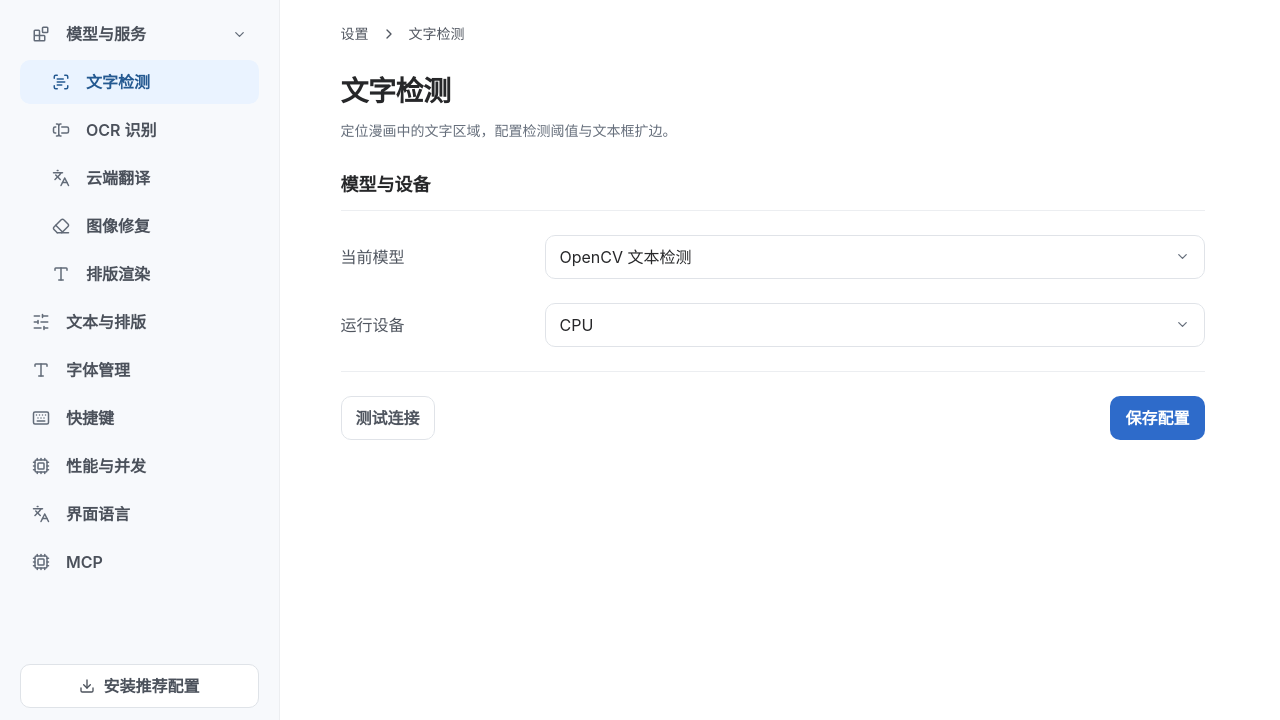
Scenario: service connection tests › tests inpainting using current settings without saving
This screenshot has width=1280, height=720.
Click the button with aria-label "编辑图像修复配置" at [140, 226], box [20,204,259,248]
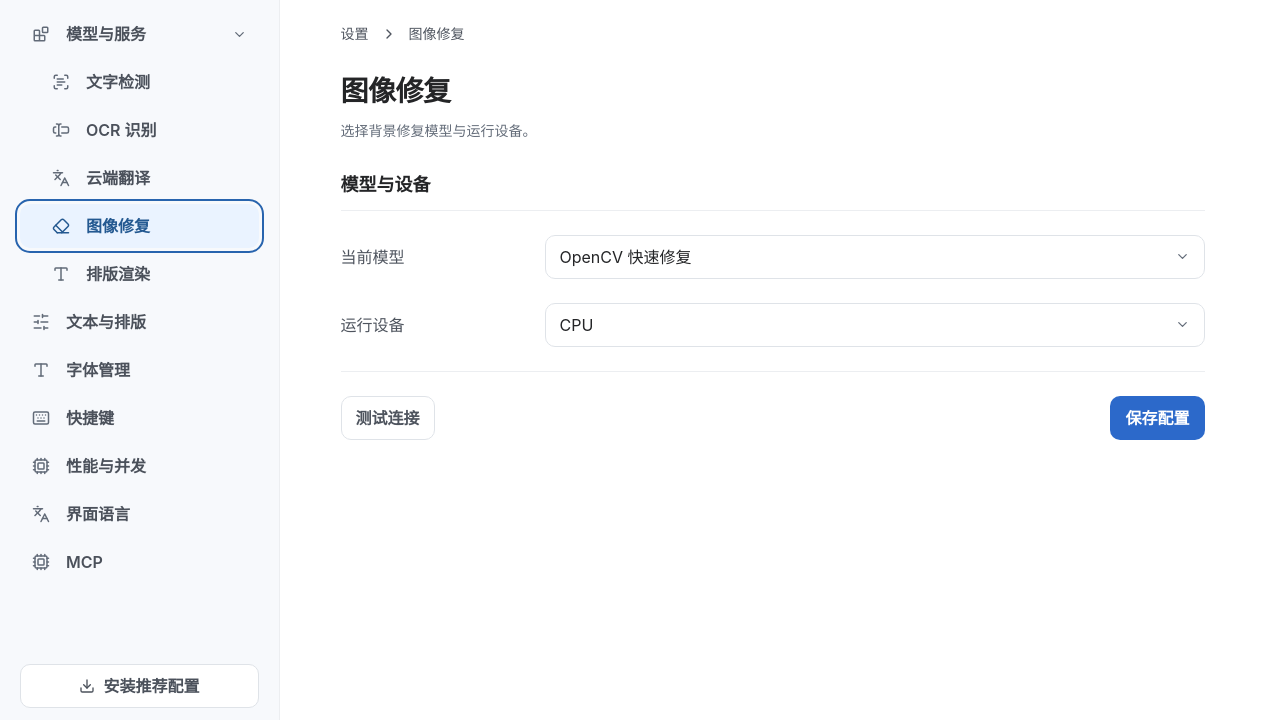
Click the button "测试连接" at [388, 418], box [340,396,434,440]
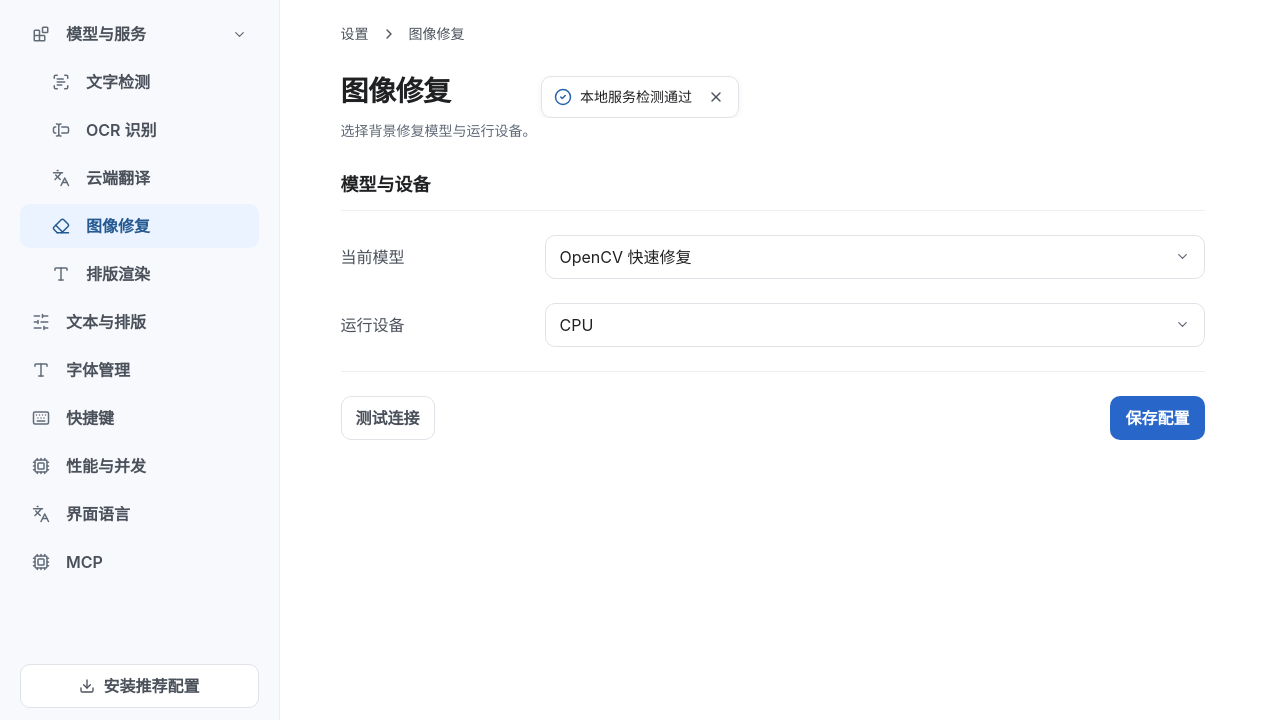
Expected: the text "本地服务检测通过" is shown, [580,83,692,111]
Expected: the message named "测试连接" reads "本地服务检测通过", [580,88,692,105]
Click the button named "关闭提示" at [716, 97], box [700,81,732,113]
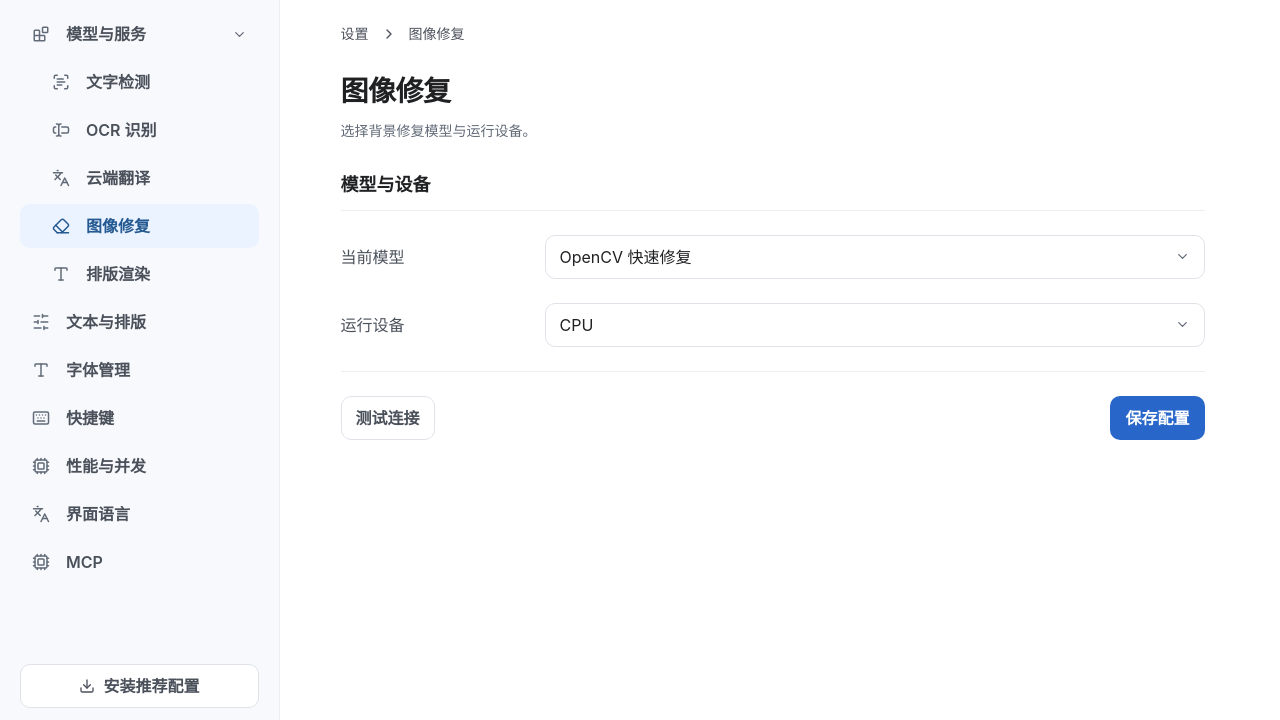
Expected: the text "本地服务检测通过" is gone
